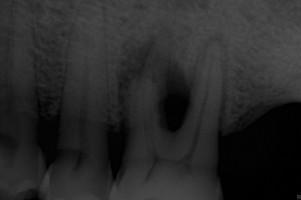Dental Caries: (115, 19, 192, 134), (193, 32, 232, 75)
